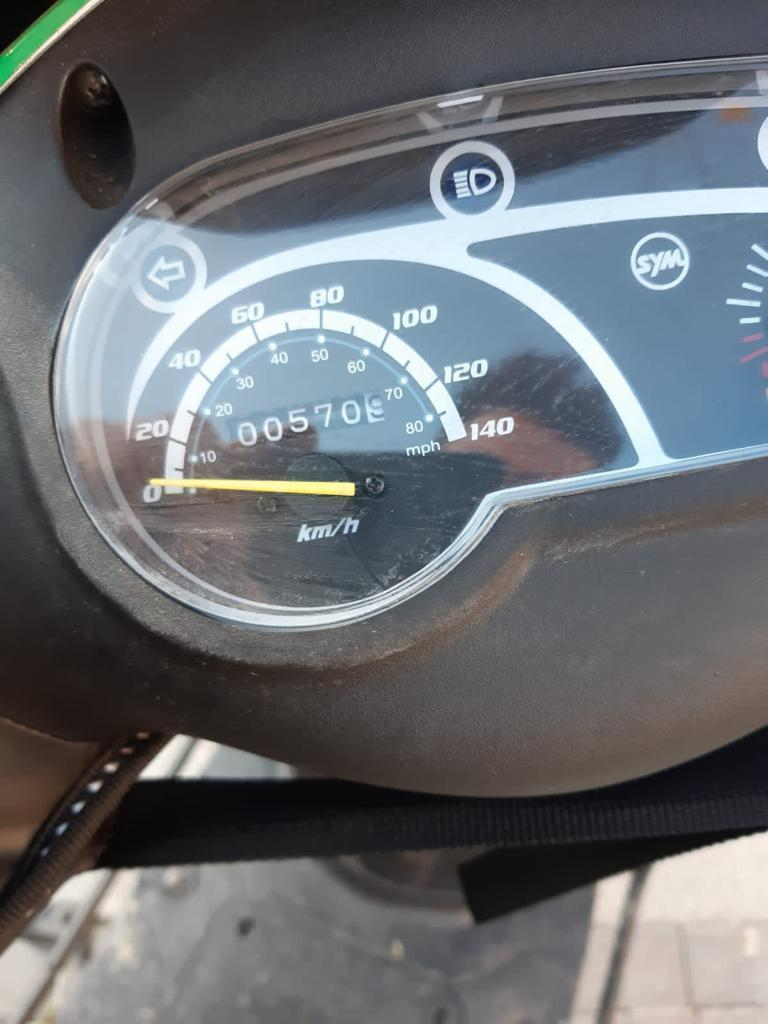0: (262, 415, 283, 443), (236, 421, 258, 447), (340, 399, 362, 425), (223, 402, 232, 415)
5: (287, 406, 308, 433)
7: (311, 401, 333, 429)
9: (367, 394, 385, 418)
odometer: (221, 386, 388, 453)
